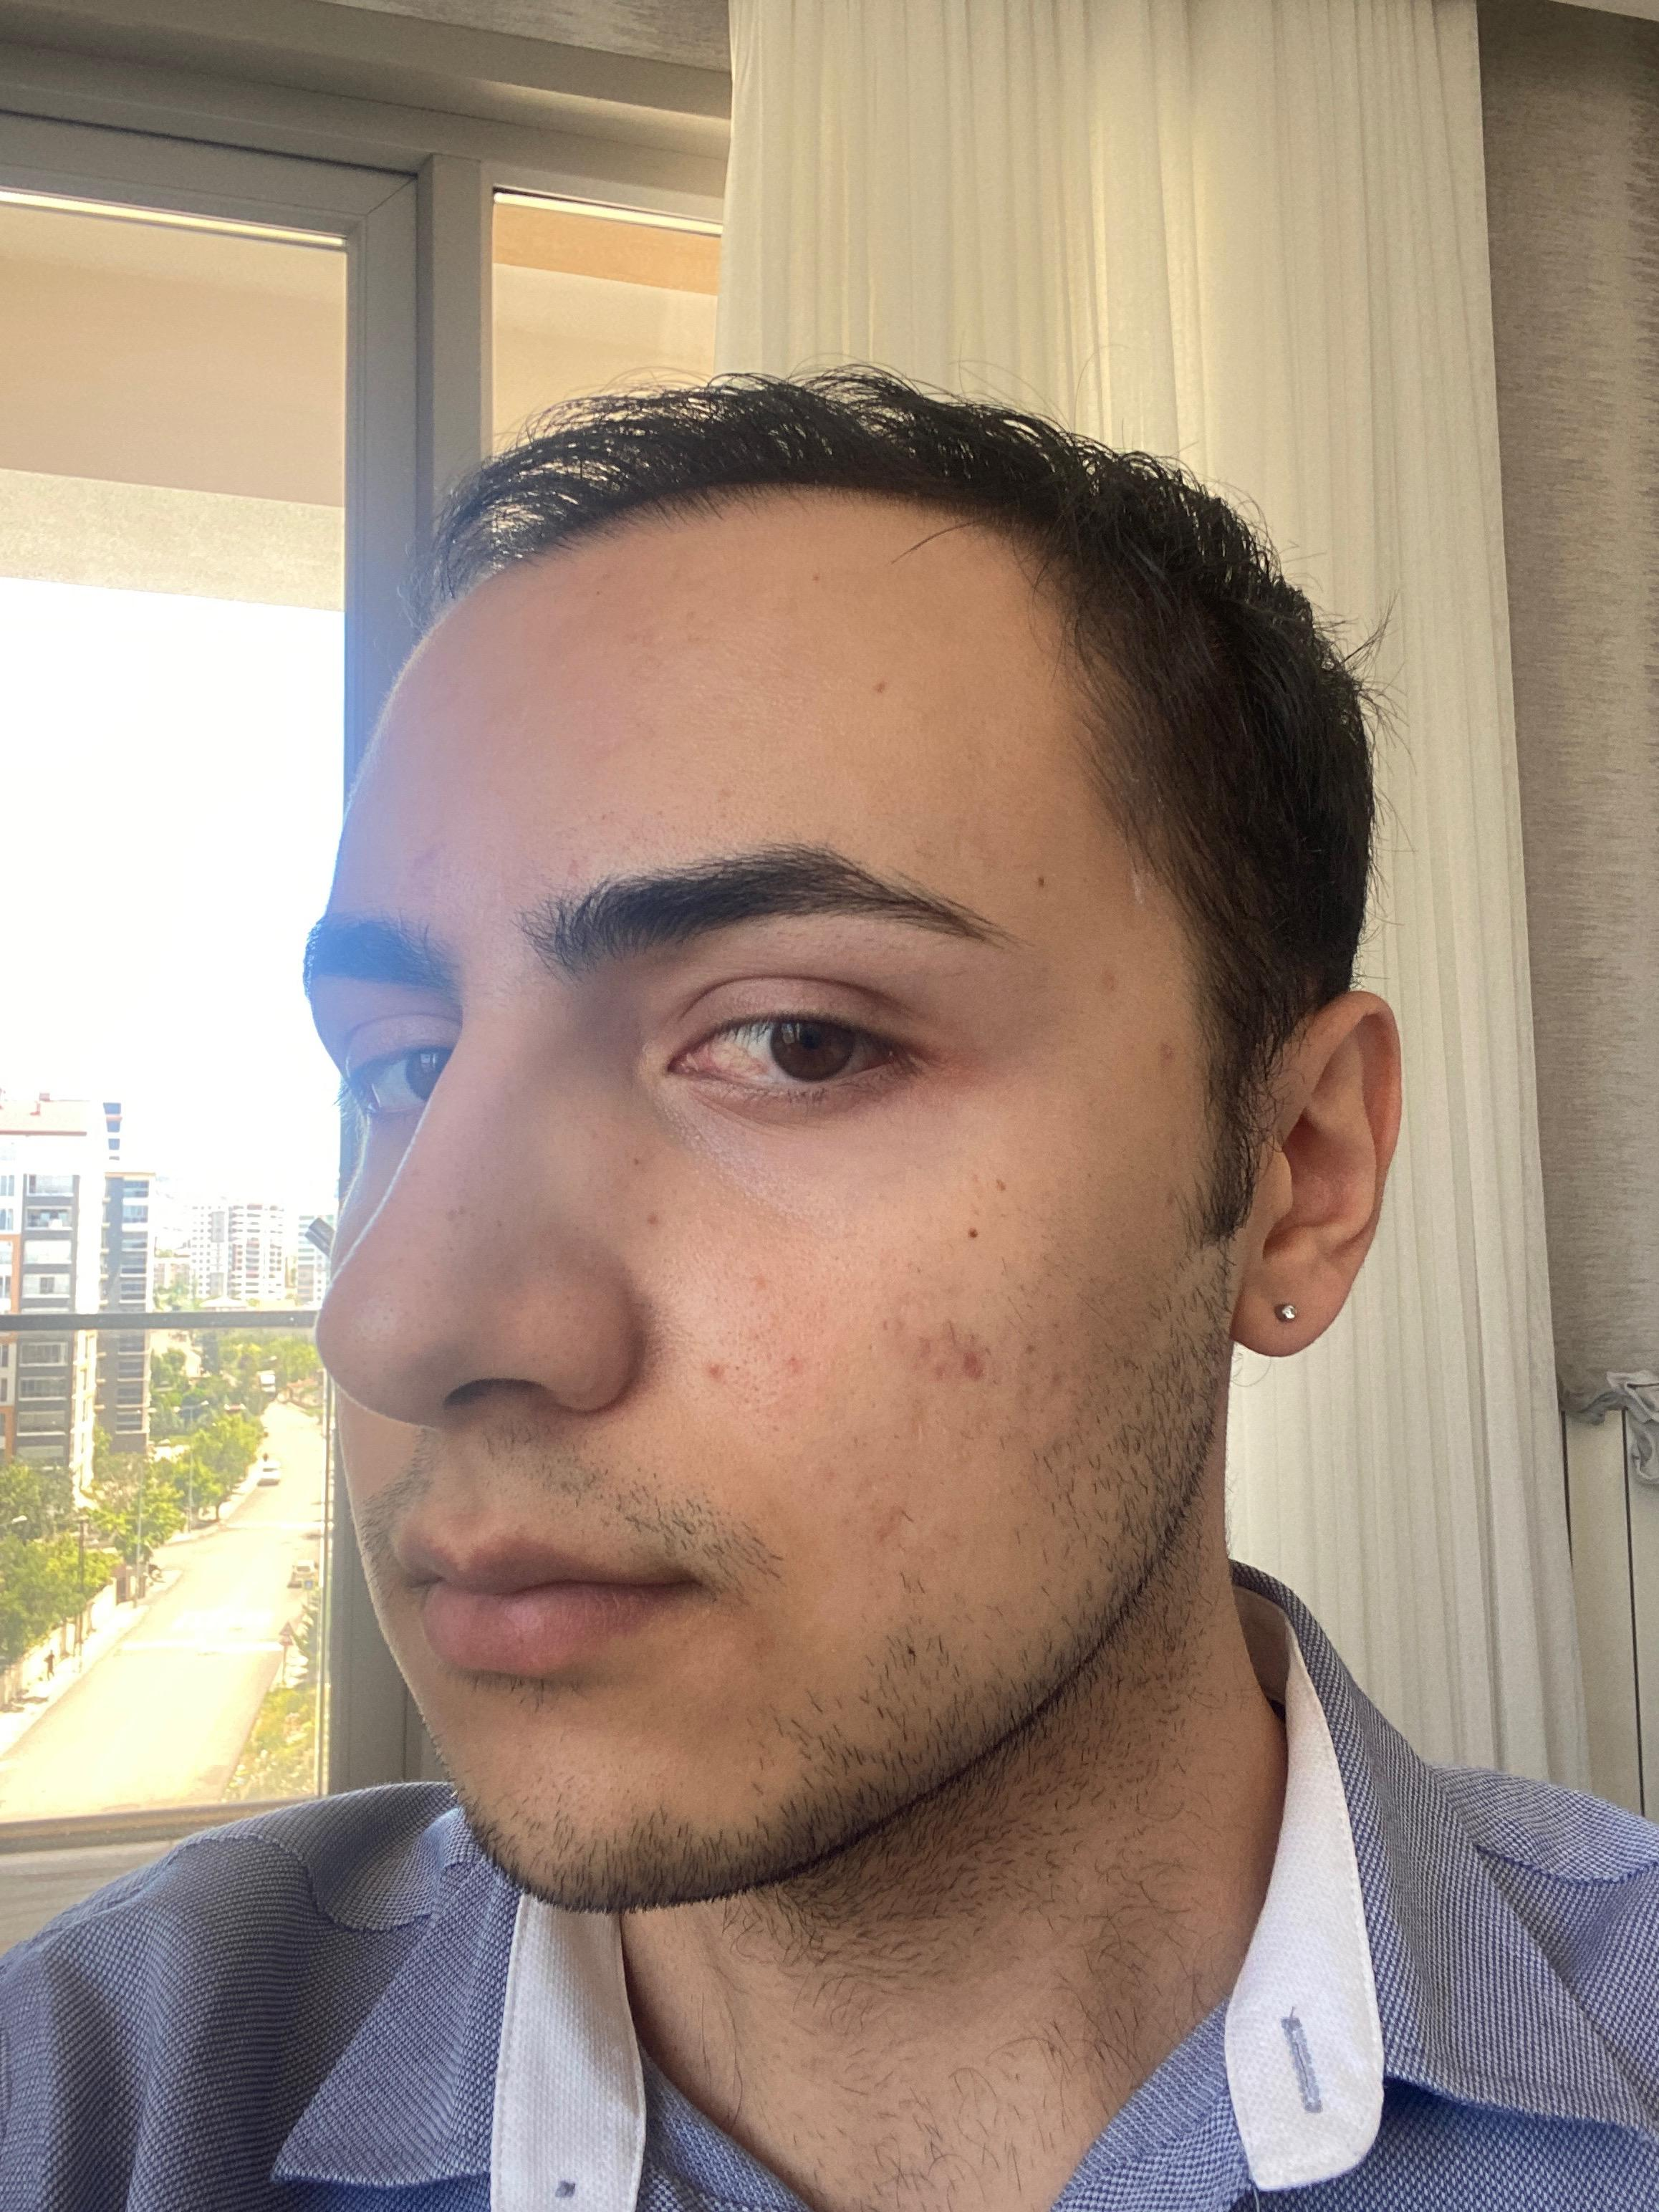Acne: (903, 1322, 999, 1393), (404, 824, 464, 878), (870, 1500, 903, 1545), (1098, 965, 1127, 1003), (779, 1348, 809, 1381), (559, 853, 587, 881), (1155, 1033, 1176, 1069), (702, 1353, 727, 1383), (638, 1207, 667, 1231), (753, 1270, 770, 1294)
